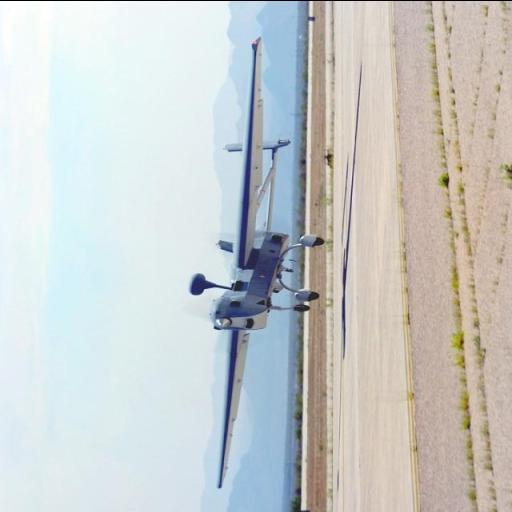uav: (187, 35, 341, 491)
